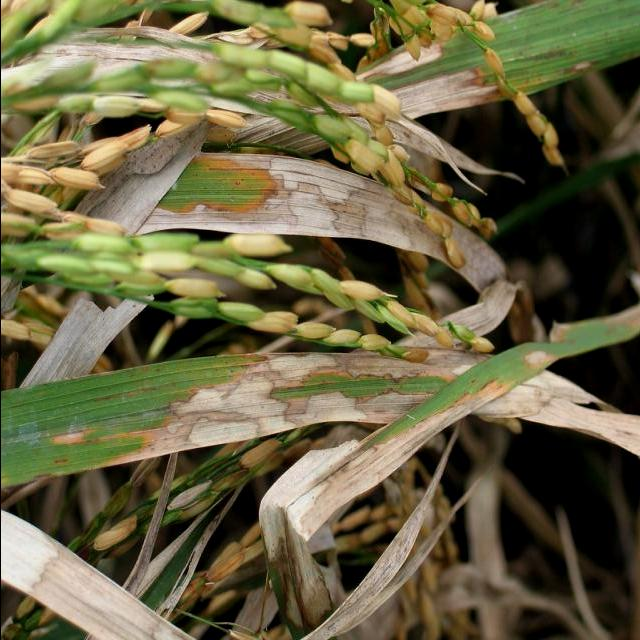Bacterial_Leaf_Blight: (155, 149, 504, 308), (49, 352, 492, 472), (283, 328, 559, 518), (358, 40, 500, 124)
